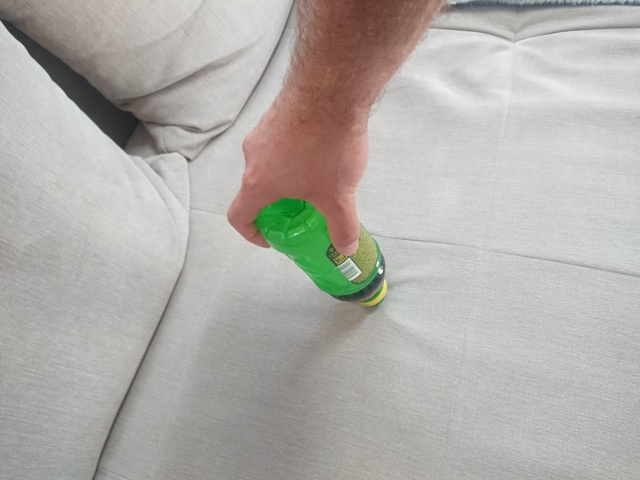Vindi Iso Sport Lemon-Grapefruit 500mL: (252, 176, 390, 310)
